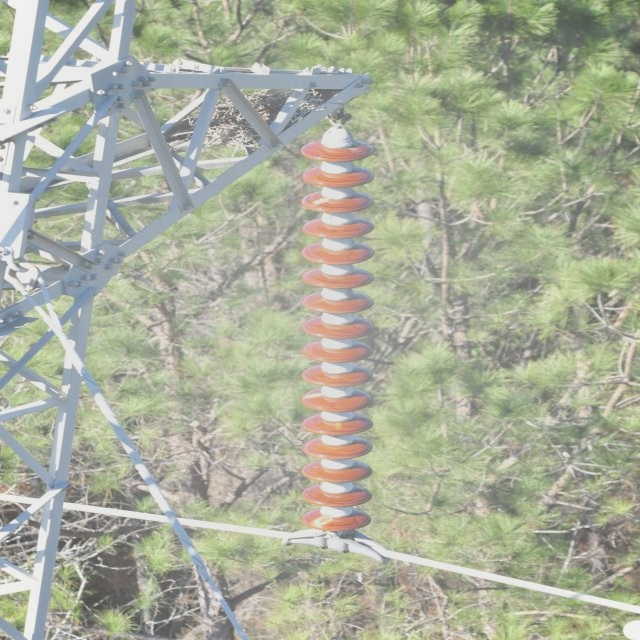insulator: (294, 140, 378, 532)
